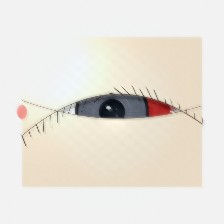hemorrhage_spot: (116, 84, 179, 135)
